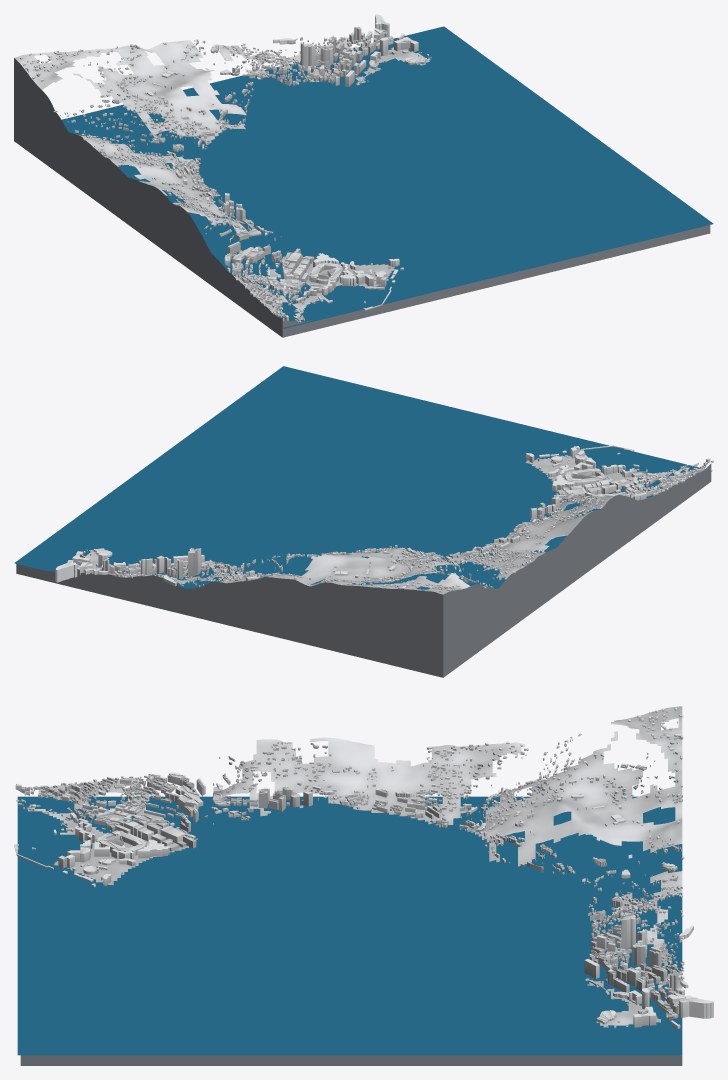
The model's file is far.glb.
3 views of the same model, one above another, from view 1: azimuth 30°, elevation 25°; view 2: azimuth 150°, elevation 25°; view 3: azimuth 270°, elevation 25° (orthographic). The views are drawn at different scales.
Parts seen in each view (by area): view 1: water, building, plinth, terrain; view 2: water, plinth, building, terrain; view 3: water, building, terrain, plinth.
Boxes of the visible parts, x1,y1,x2,y2 form: water: [61, 26, 713, 328]; building: [20, 14, 431, 322]; plinth: [14, 58, 710, 337]; terrain: [14, 36, 430, 320]; water: [14, 366, 712, 589]; plinth: [16, 463, 711, 677]; building: [55, 445, 713, 592]; terrain: [85, 455, 701, 594]; water: [17, 796, 682, 1055]; building: [14, 707, 713, 1028]; terrain: [28, 706, 682, 1027]; plinth: [20, 1055, 682, 1065].
Bounding box in the file's own units: 2750 × 511 × 3132.
